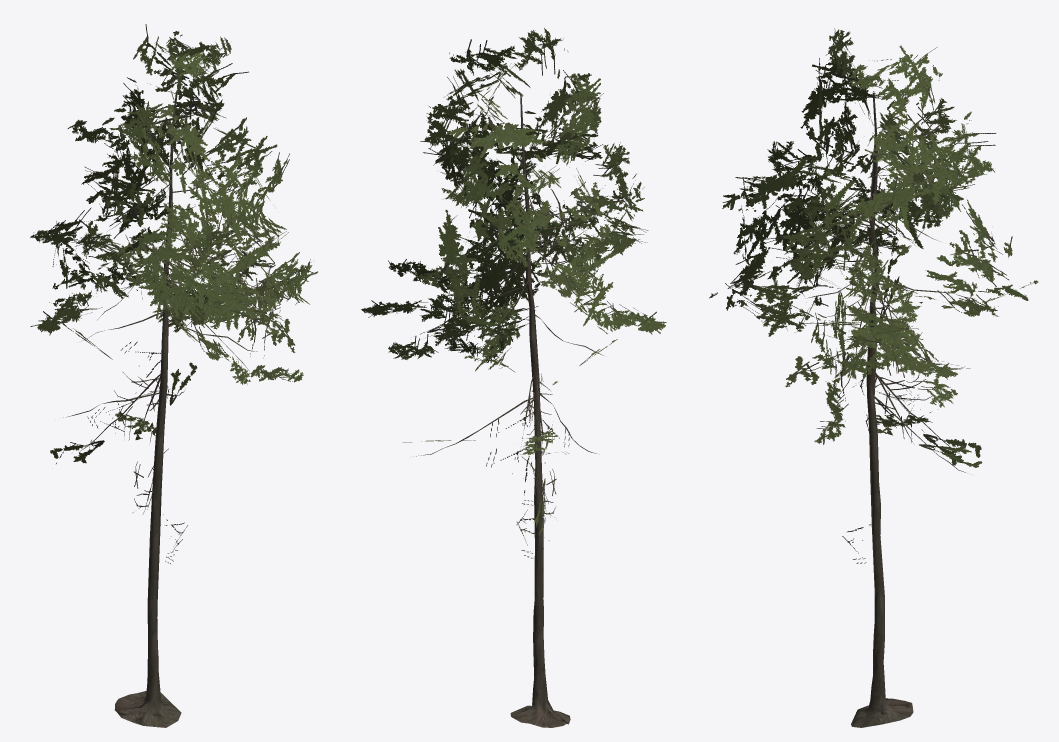
3 renders of one model, left to right at view 1: azimuth 30°, elevation 25°; view 2: azimuth 150°, elevation 25°; view 3: azimuth 270°, elevation 25°, orthographic. The views are drawn at different scales.
Parts seen in each view (by area): view 1: fir_tree_01__c_lod2; view 2: fir_tree_01__c_lod2; view 3: fir_tree_01__c_lod2.
Part boxes in pixels (x1,y1,x2,y2): fir_tree_01__c_lod2: (30,24,317,727); fir_tree_01__c_lod2: (361,28,666,727); fir_tree_01__c_lod2: (709,28,1038,727).
Bounding box in the file's own units: 6.42 × 14.78 × 6.44.
Materials: 2 (2 with a texture image).
